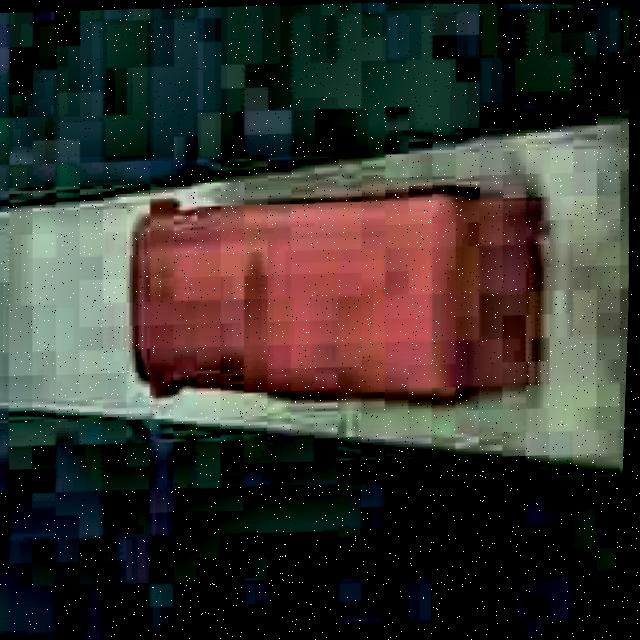bus: (118, 174, 556, 411)
